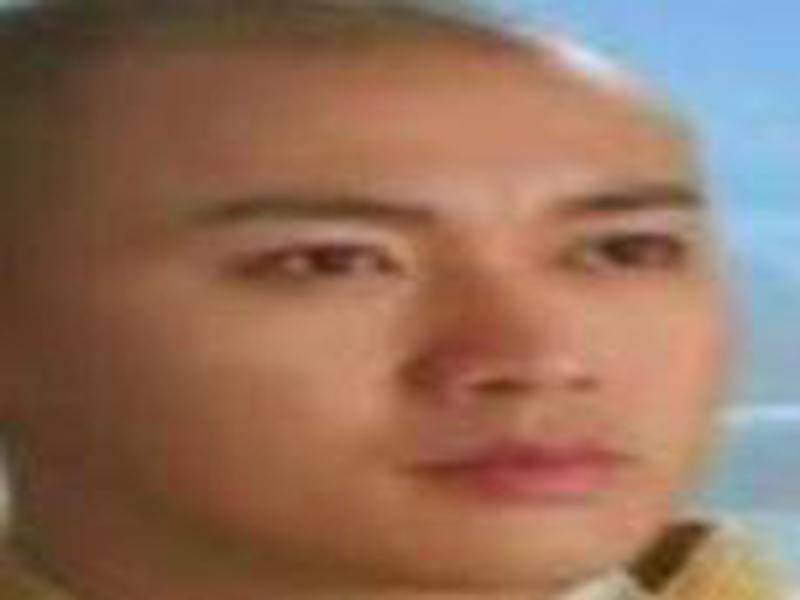without_mask: (6, 4, 723, 587)
